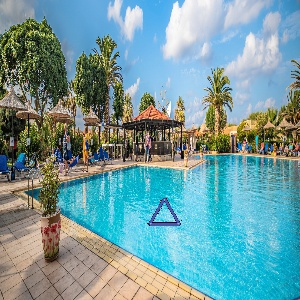triangle: (143, 195, 185, 230)
